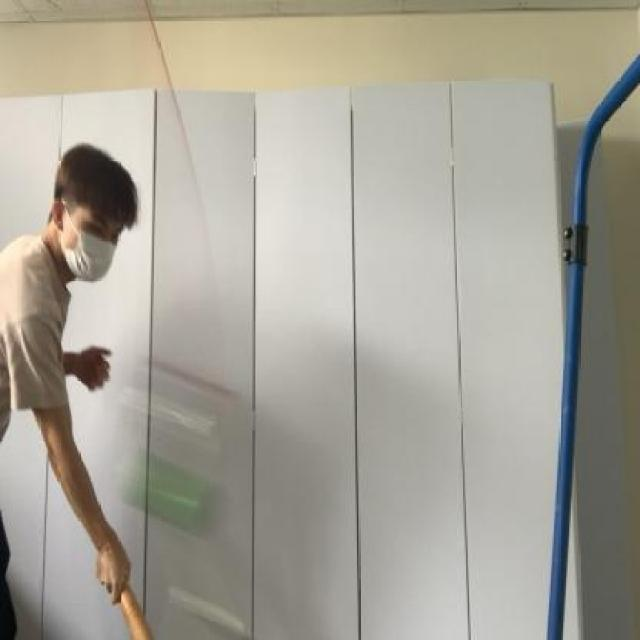baseball: (122, 442, 226, 530)
